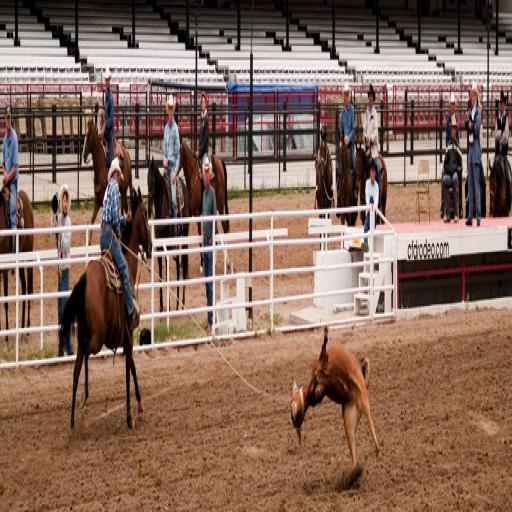horse: (60, 172, 152, 446), (292, 323, 380, 479), (144, 147, 192, 314), (176, 134, 230, 280), (80, 114, 134, 245), (0, 179, 34, 339), (352, 138, 388, 226), (335, 126, 356, 231), (315, 136, 333, 249), (488, 154, 512, 216)
